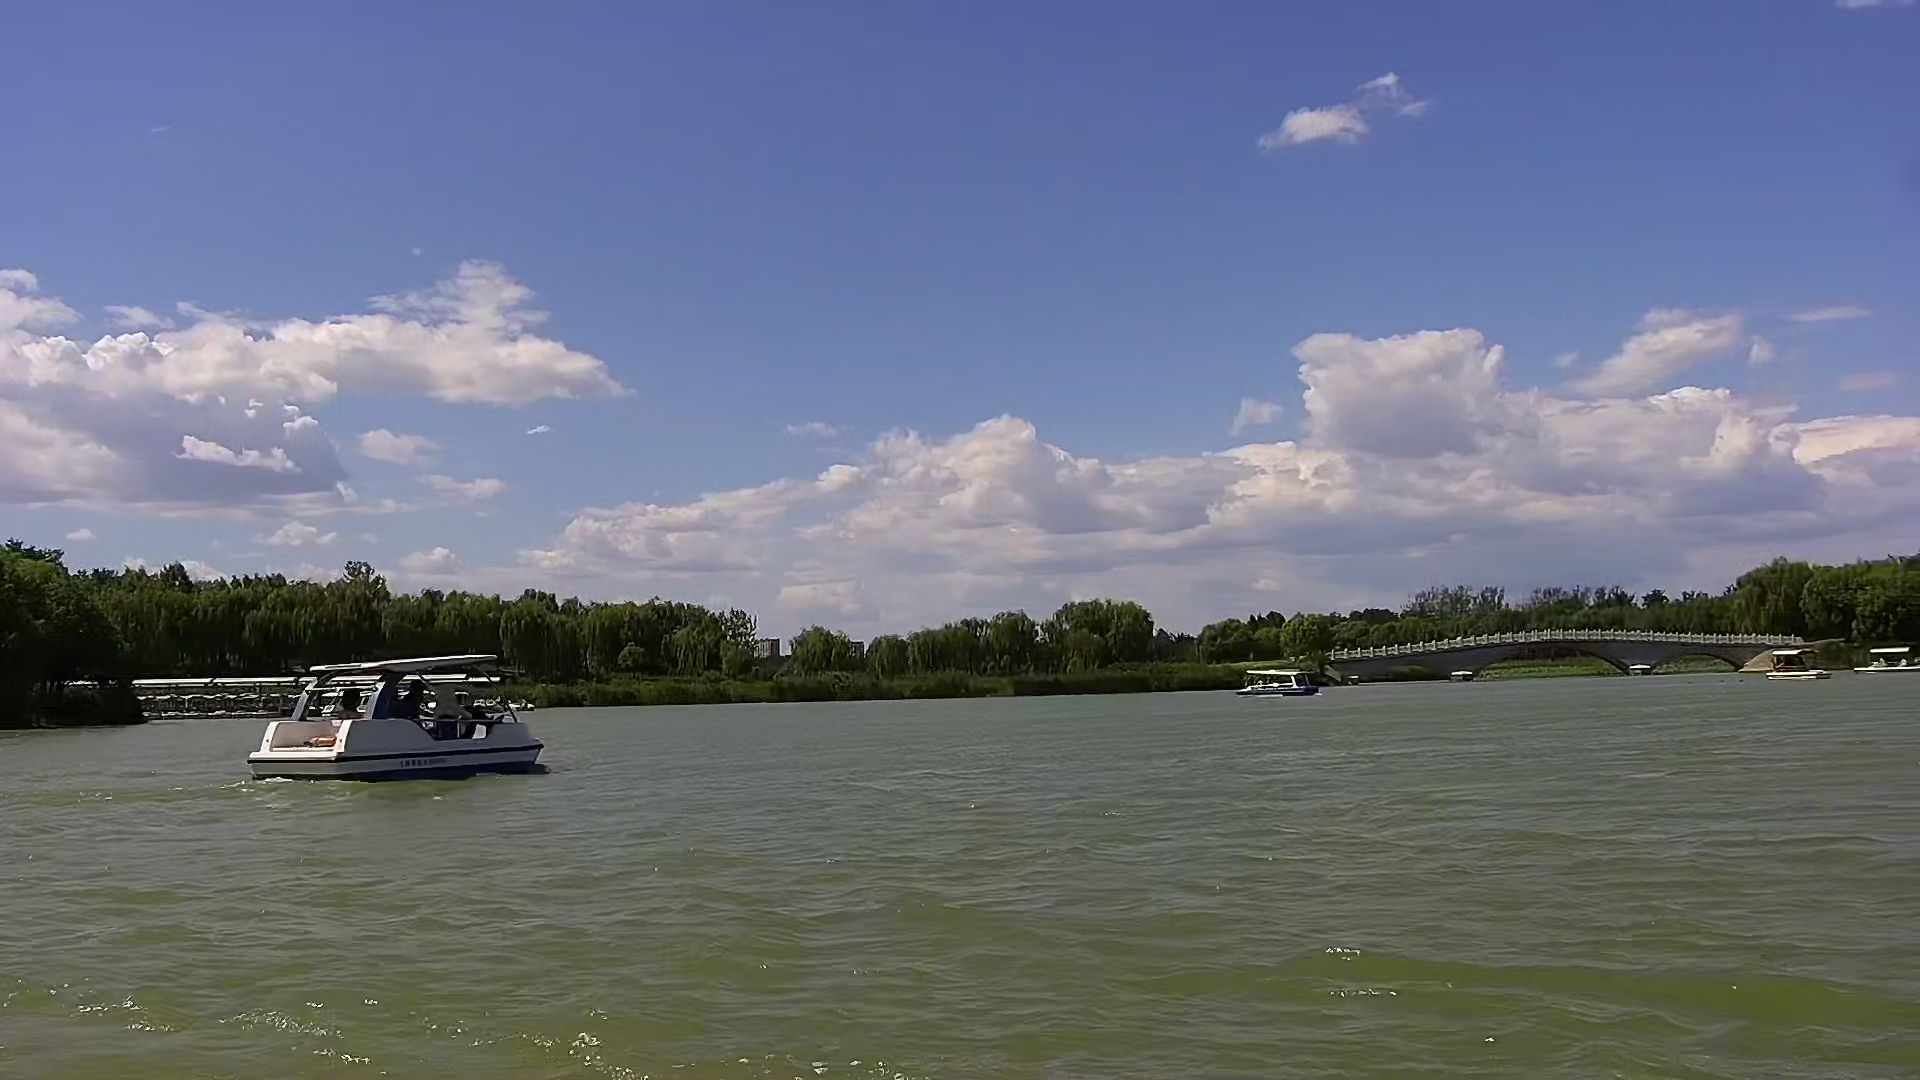boat: (243, 647, 574, 785), (1230, 655, 1321, 704), (1758, 636, 1834, 687), (1853, 641, 1920, 682)
bridge: (1331, 622, 1756, 695)
